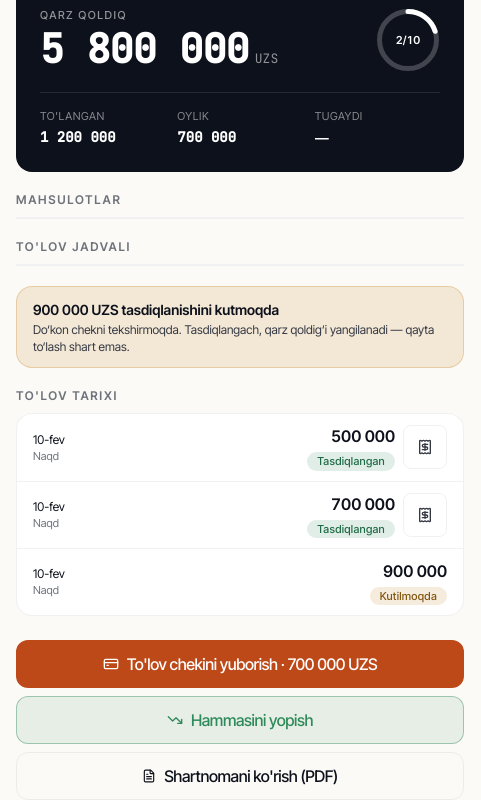
it: LX-01 · contract PDF › a non-arrived outcome becomes a retry, not a success
(page scrolled)
Click the button "Shartnomani ko'rish (PDF)".
click(240, 776)  # box top-left (16, 752), bottom-right (464, 799)
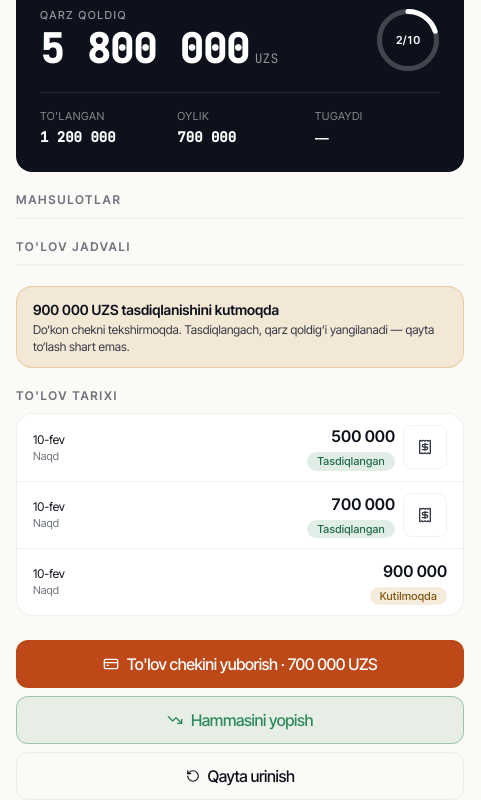
Now the button "Qayta urinish" is shown, box top-left (16, 752), bottom-right (464, 799)
